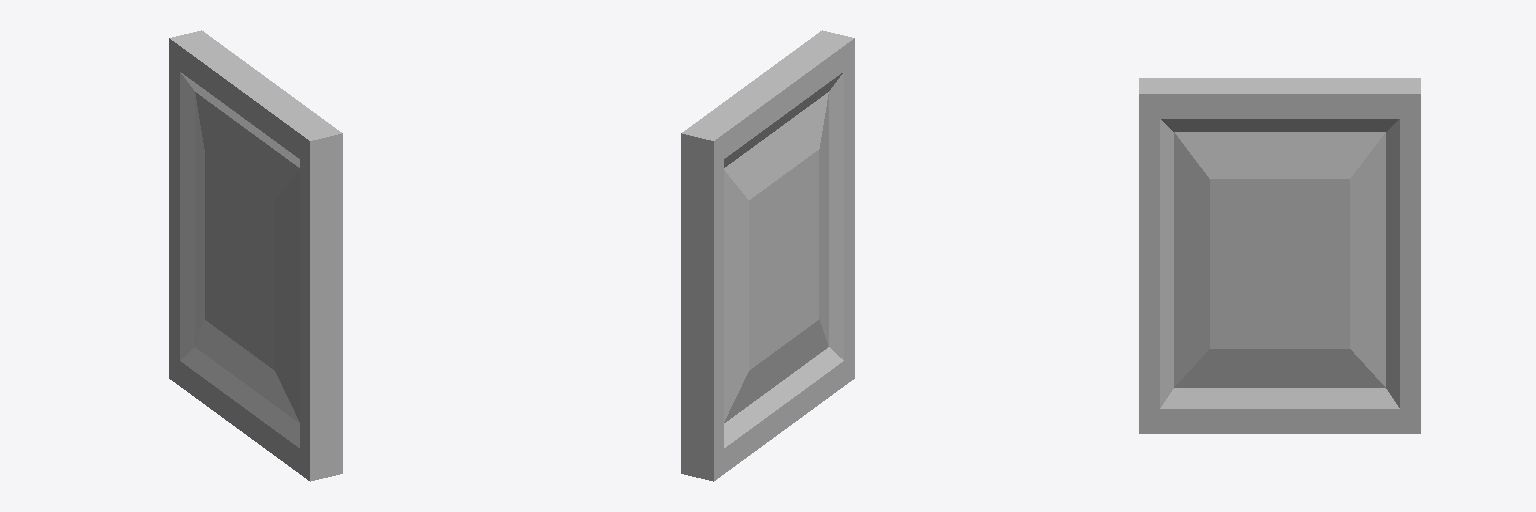
Rendered from door.obj.
3 renders of one model, left to right at view 1: azimuth 30°, elevation 25°; view 2: azimuth 150°, elevation 25°; view 3: azimuth 270°, elevation 25°, orthographic.
Visible parts, largest first — view 1: Cube.002; view 2: Cube.002; view 3: Cube.002.
Part boxes in pixels (x1,y1,x2,y2): Cube.002: (169, 30, 342, 481); Cube.002: (681, 30, 854, 481); Cube.002: (1139, 78, 1420, 433).
Size of the model in its own units: 0.2 by 2 by 1.5.